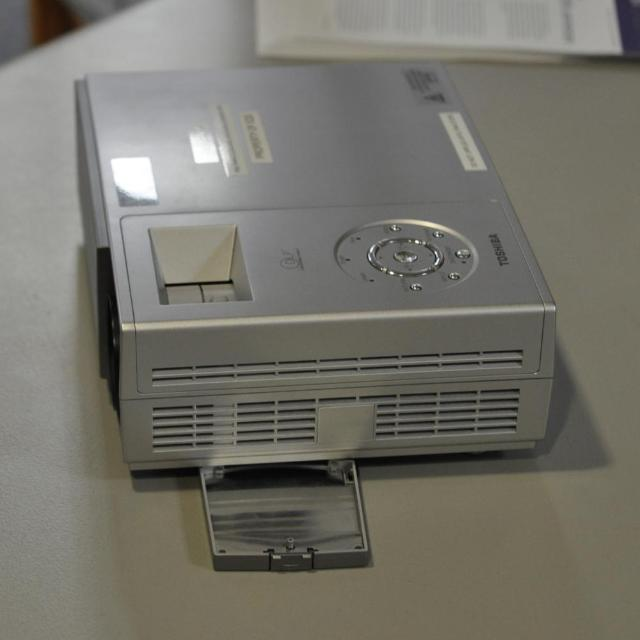Projector: (72, 60, 558, 574)
